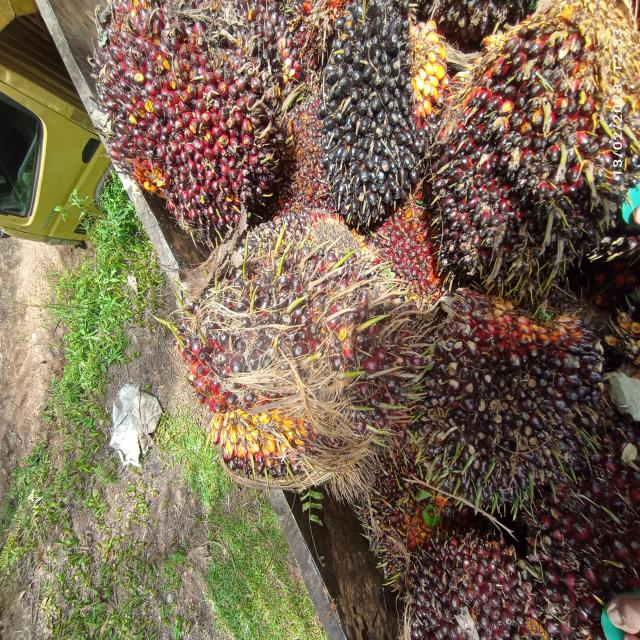fraksi 00: (410, 277, 607, 526), (300, 0, 452, 228)
fraksi 1: (191, 208, 433, 508), (435, 0, 640, 286), (95, 3, 298, 252), (398, 521, 548, 640)
